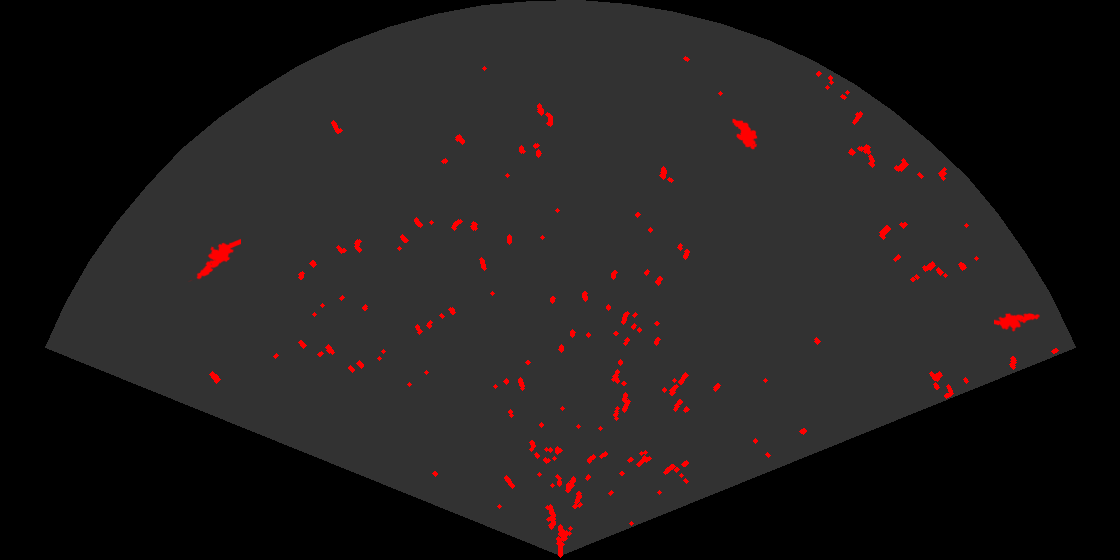AUV: (730, 117, 759, 151)
frogman: (187, 237, 241, 282), (994, 312, 1040, 333)
